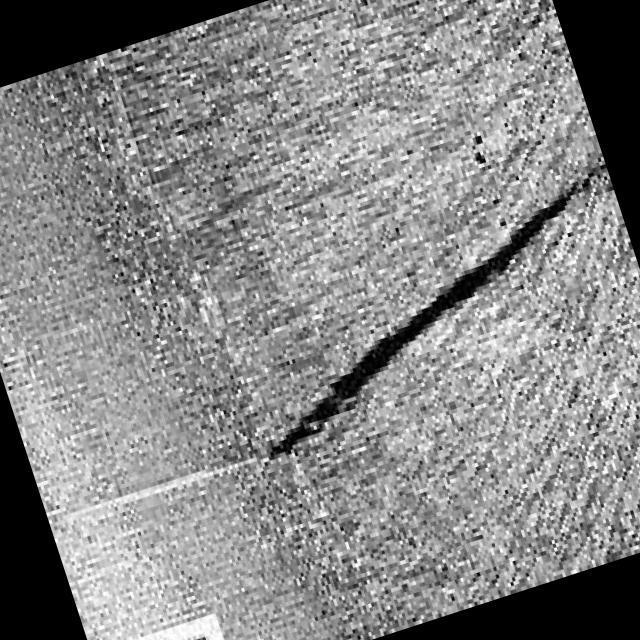defect: (257, 153, 607, 461)
